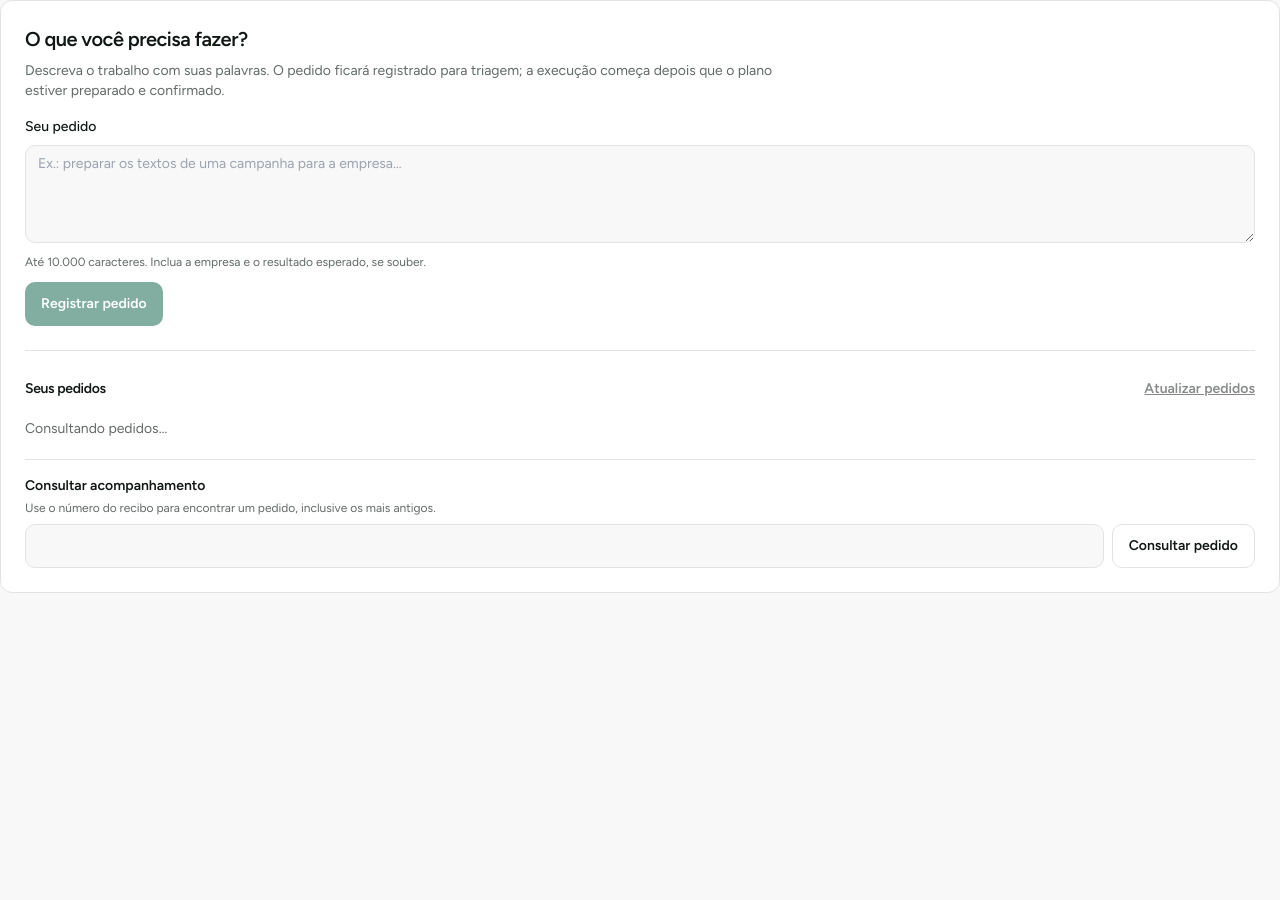
não envia se o armazenamento local falhar
The width and height of the screenshot is (1280, 900).
Type "Campanha da eLiving™" into the text box labelled "Seu pedido" at {"x": 640, "y": 194}, box [25,145,1255,243]
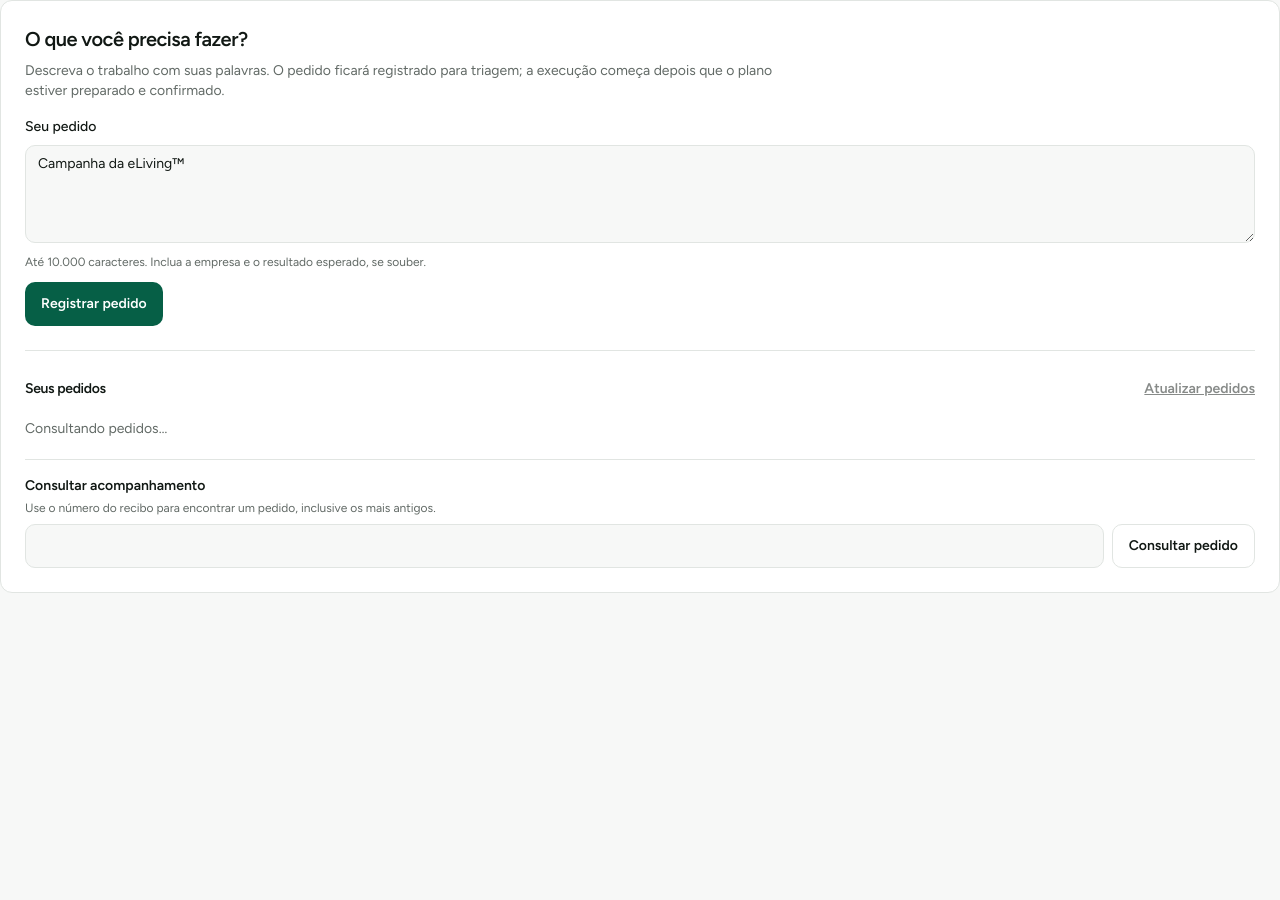
Click the button "Registrar pedido" at {"x": 94, "y": 304}, box [25,282,163,326]
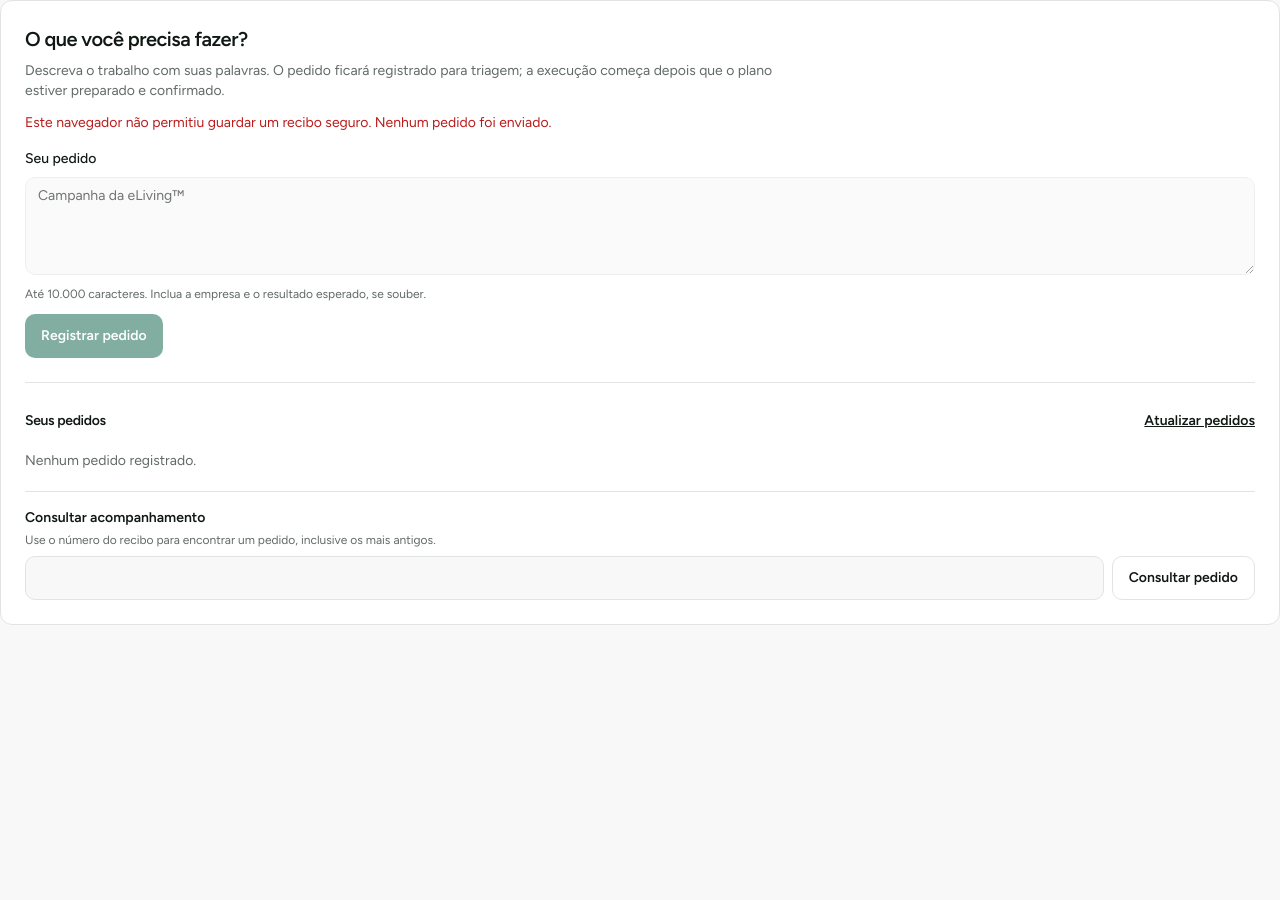
Result: the text "Nenhum pedido foi enviado" is shown at [25,114,551,131]
